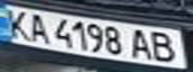1: (66, 18, 87, 51)
4: (48, 16, 72, 48)
8: (103, 24, 127, 56)
9: (84, 20, 106, 54)
A: (127, 27, 157, 61), (21, 11, 51, 44)
B: (145, 29, 184, 63)
K: (0, 6, 33, 40)
